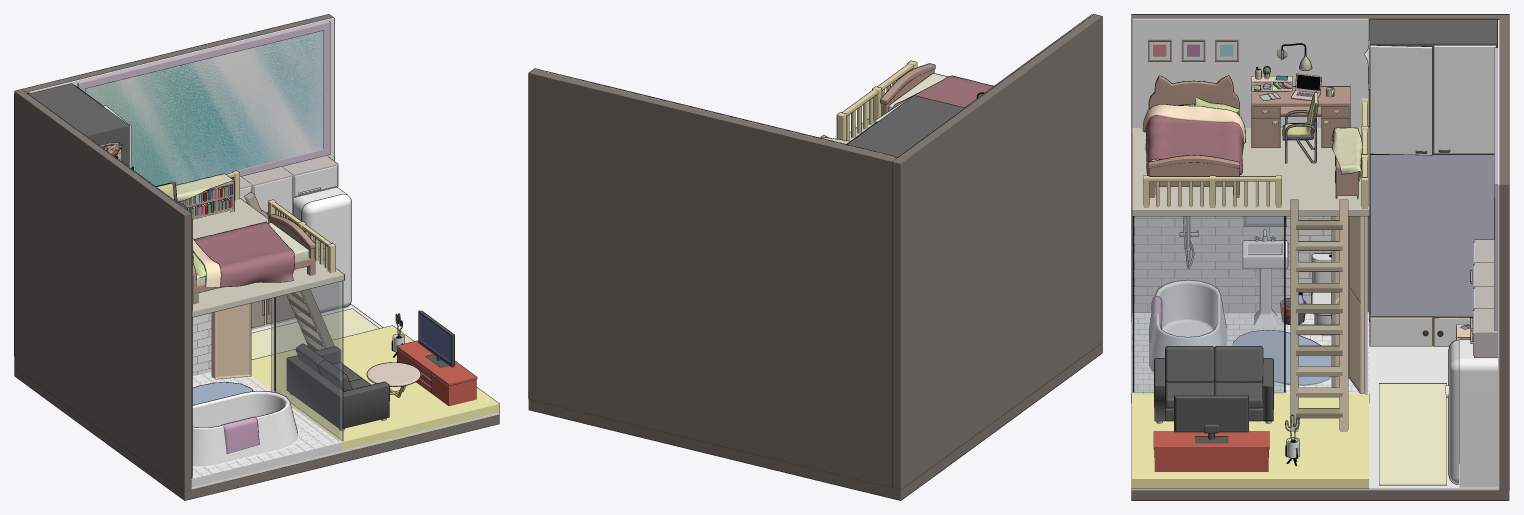
3 views of the same model, side by side, from view 1: azimuth 30°, elevation 25°; view 2: azimuth 150°, elevation 25°; view 3: azimuth 270°, elevation 25° (orthographic). The views are drawn at different scales.
Visible parts, largest first — view 1: stand, window, glass_wall, black_comics, floor_1_5, kitchen, bed, sofa, bath, floor_2, floor_bathroom, shelf_up (+14 smaller); view 2: stand, black_comics, shelf_up, bed, fence_1; view 3: glass_wall, mirror, wall_1, black_comics, floor_1_5, stand, wall_bathroom, floor_2, kitchen, bed, ladder, carpet_in_the_kitchen (+30 smaller).
Part boxes in pixels (left/top/right/bottom): stand: left=14, top=14, right=499, bottom=500; window: left=77, top=21, right=330, bottom=185; glass_wall: left=272, top=281, right=342, bottom=441; black_comics: left=14, top=14, right=499, bottom=500; floor_1_5: left=251, top=325, right=499, bottom=450; kitchen: left=240, top=156, right=351, bottom=329; bed: left=193, top=214, right=315, bottom=304; sofa: left=287, top=344, right=389, bottom=431; bath: left=192, top=391, right=298, bottom=467; floor_2: left=192, top=198, right=344, bottom=316; floor_bathroom: left=191, top=372, right=341, bottom=487; shelf_up: left=29, top=83, right=129, bottom=166; stand: left=529, top=14, right=1101, bottom=500; black_comics: left=528, top=14, right=1102, bottom=500; shelf_up: left=848, top=95, right=964, bottom=157; bed: left=880, top=63, right=992, bottom=115; fence_1: left=837, top=61, right=916, bottom=140; glass_wall: left=1134, top=216, right=1283, bottom=393; mirror: left=1370, top=155, right=1494, bottom=315; wall_1: left=1132, top=18, right=1368, bottom=127; black_comics: left=1131, top=14, right=1509, bottom=500; floor_1_5: left=1132, top=393, right=1368, bottom=488; stand: left=1131, top=14, right=1509, bottom=500; wall_bathroom: left=1132, top=216, right=1331, bottom=312; floor_2: left=1132, top=127, right=1369, bottom=215; kitchen: left=1446, top=240, right=1497, bottom=487; bed: left=1143, top=76, right=1245, bottom=197; ladder: left=1290, top=200, right=1347, bottom=431; carpet_in_the_kitchen: left=1379, top=383, right=1446, bottom=485.
Bounding box in the file's own units: 17.12 × 14.8 × 16.04.
100 materials, 3 textured.
